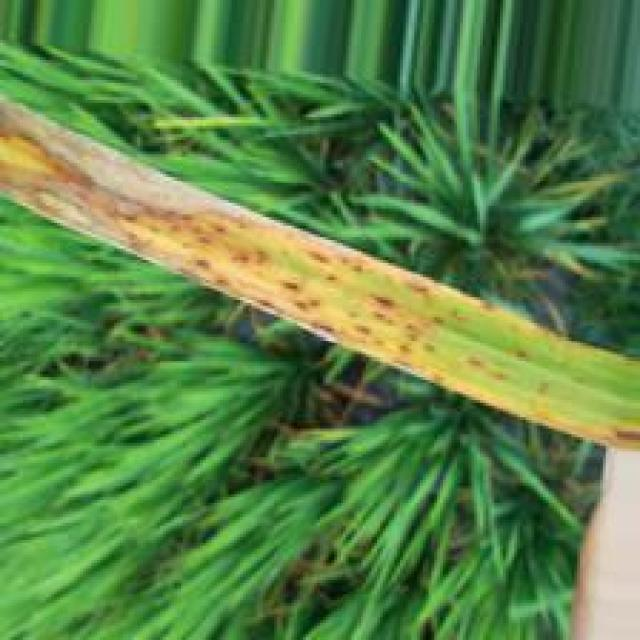Narrow_Brown_Leaf_Spot: (0, 92, 638, 456)
